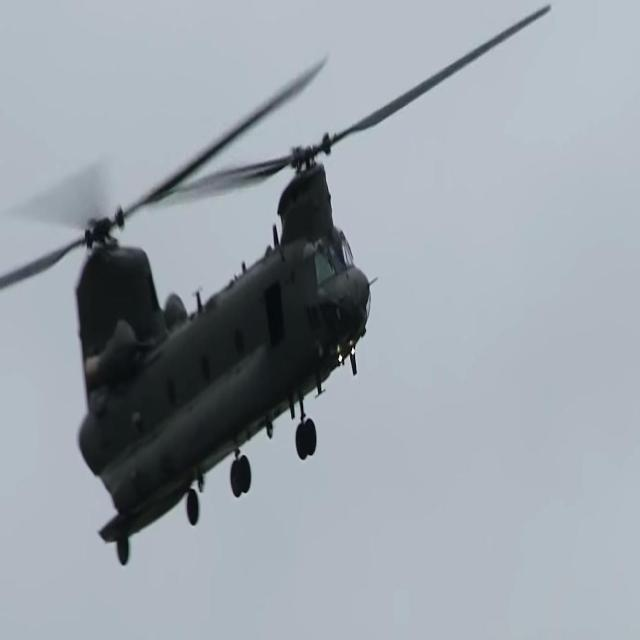Helicopter: (8, 98, 421, 546)
